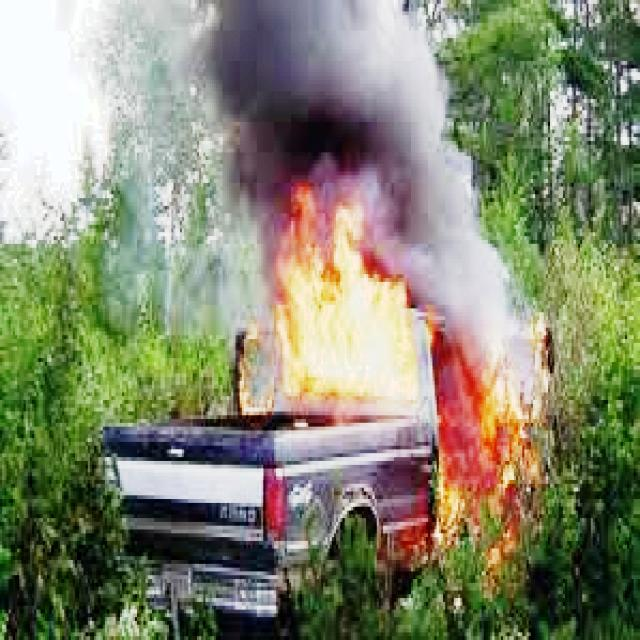api: (254, 180, 431, 420), (418, 306, 560, 569)
